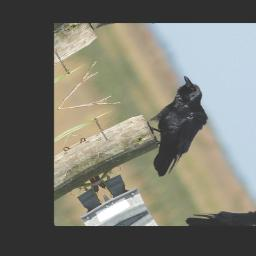Crow: (119, 72, 231, 180)
